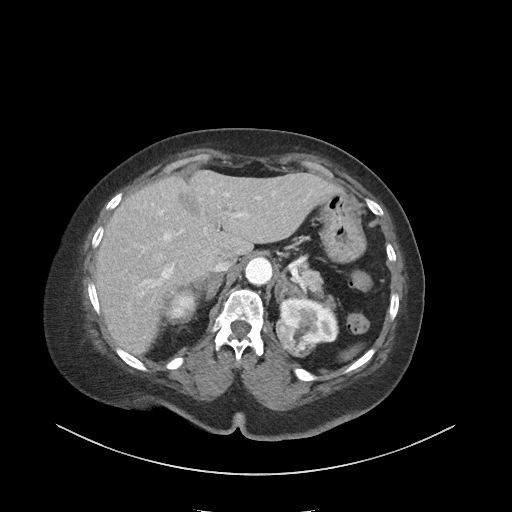Lesion: (273, 316, 315, 357)
